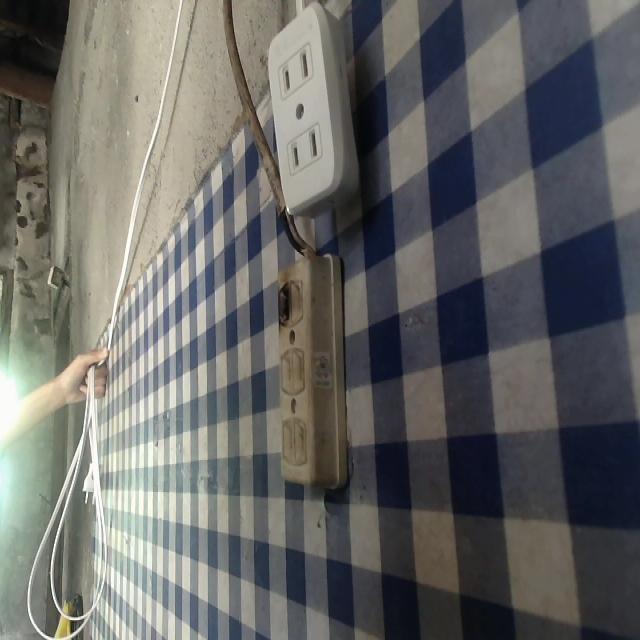-: (272, 280, 294, 323)
